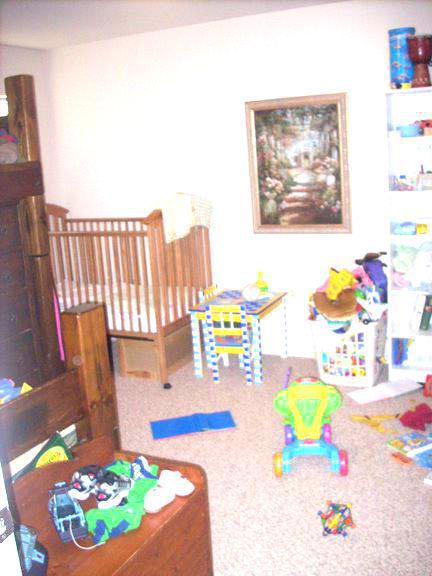Otro Obstaculo: (312, 264, 382, 383), (264, 381, 345, 483), (313, 490, 359, 542)
